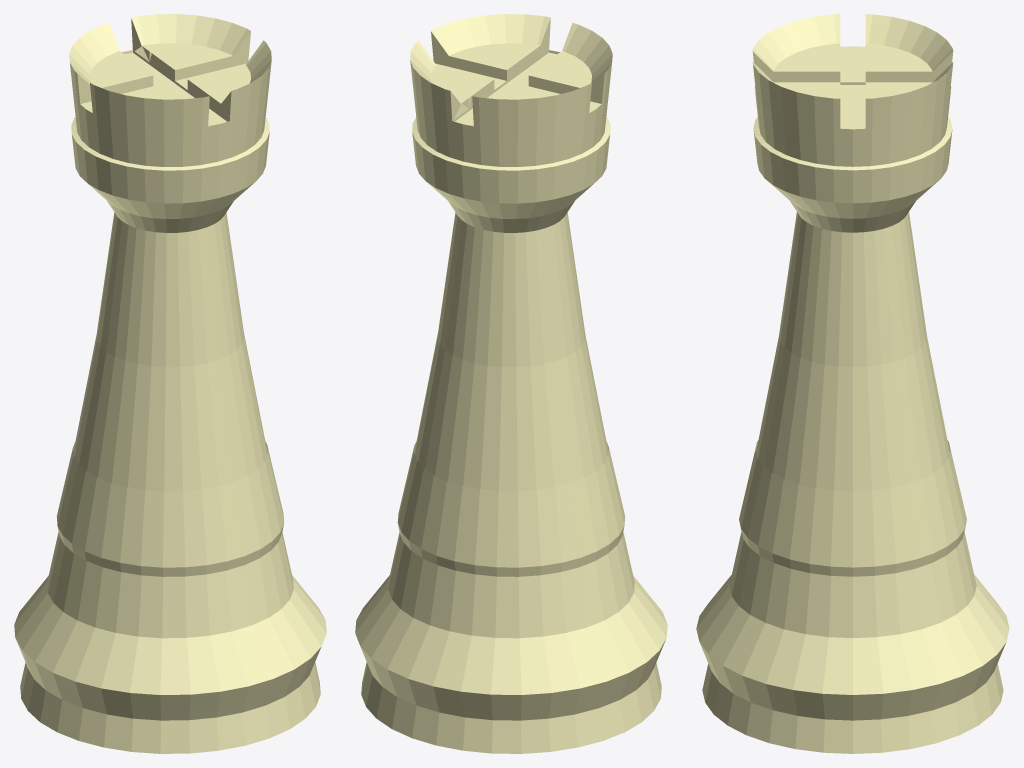
File: rook.glb
3 renders of one model, left to right at view 1: azimuth 30°, elevation 25°; view 2: azimuth 150°, elevation 25°; view 3: azimuth 270°, elevation 25°, orthographic.
Visible parts, largest first — view 1: Cylinder; view 2: Cylinder; view 3: Cylinder.
Part boxes in pixels (left/top/right/bottom): Cylinder: left=14, top=14, right=326, bottom=753; Cylinder: left=355, top=14, right=667, bottom=753; Cylinder: left=696, top=14, right=1009, bottom=753.
Bounding box in the file's own units: 2.5 × 5.59 × 2.5.
